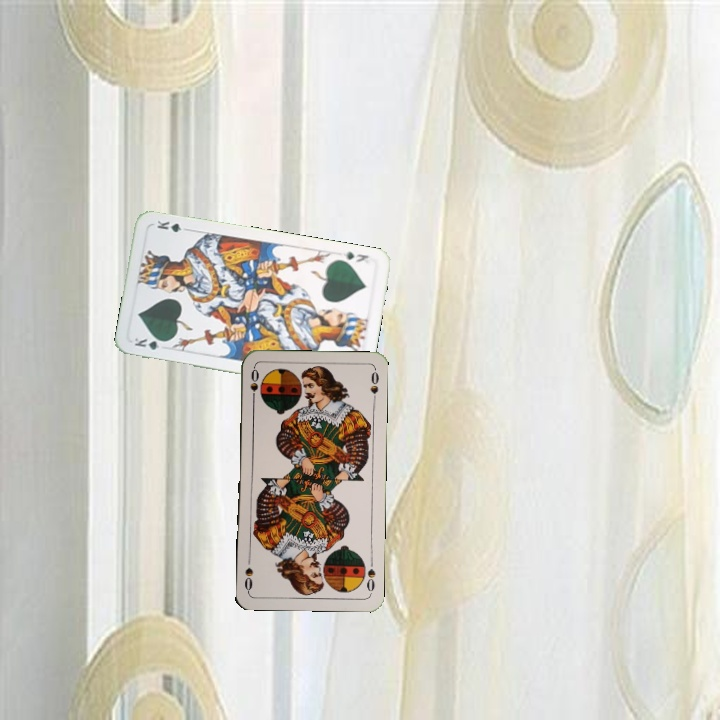GK: (130, 334, 170, 353), (339, 247, 371, 266)
SO: (362, 555, 378, 596), (246, 364, 261, 405)
